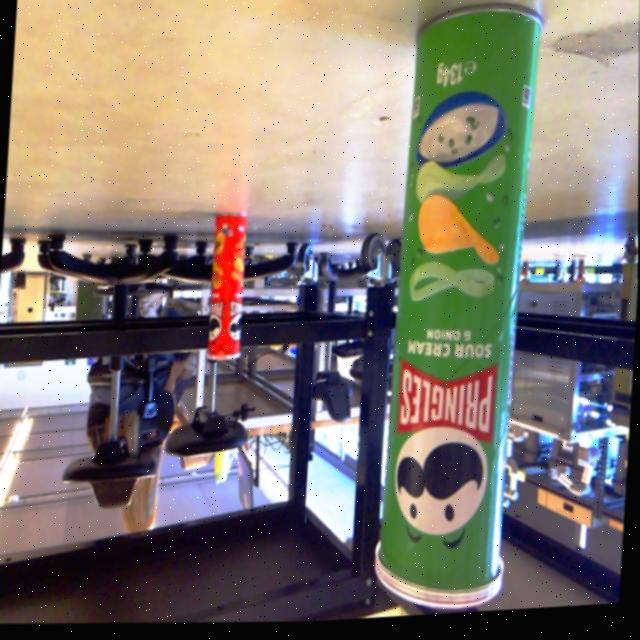greenpringles: (326, 0, 573, 625)
redpringles: (192, 195, 260, 380)
